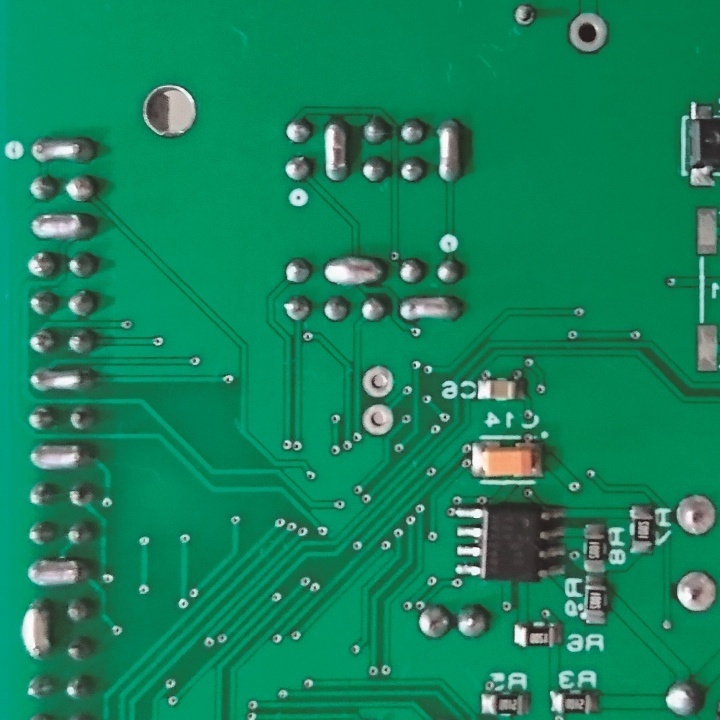F: (672, 567, 720, 614), (564, 10, 613, 56), (673, 492, 720, 538), (358, 400, 394, 441), (359, 361, 396, 399), (509, 2, 541, 29)
P: (431, 115, 468, 187), (320, 253, 389, 291), (22, 555, 95, 589), (27, 364, 100, 398), (19, 597, 56, 663), (319, 116, 352, 189), (396, 293, 467, 326), (27, 440, 96, 472), (28, 210, 100, 240), (27, 134, 99, 163)
